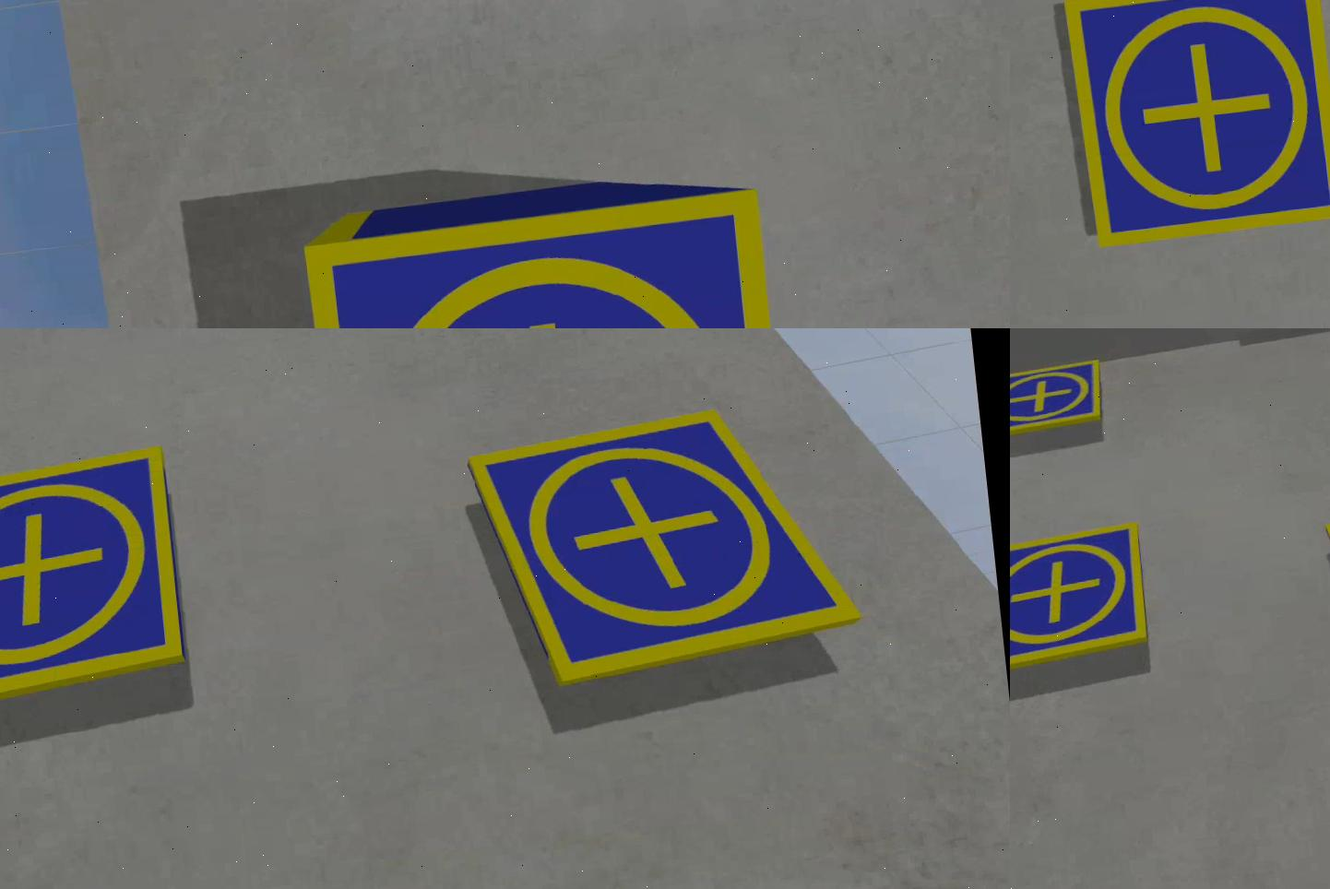small_base: (468, 399, 869, 705), (302, 185, 793, 329), (1063, 1, 1330, 249), (1, 442, 197, 724), (1011, 526, 1153, 683), (1011, 356, 1107, 439)
